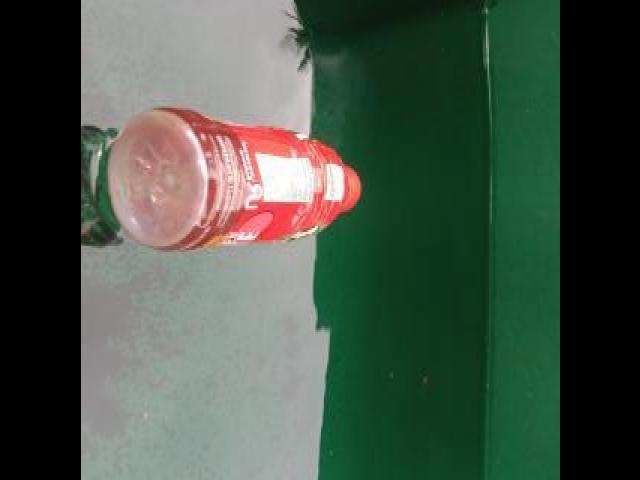Bottle: (96, 100, 366, 262)
